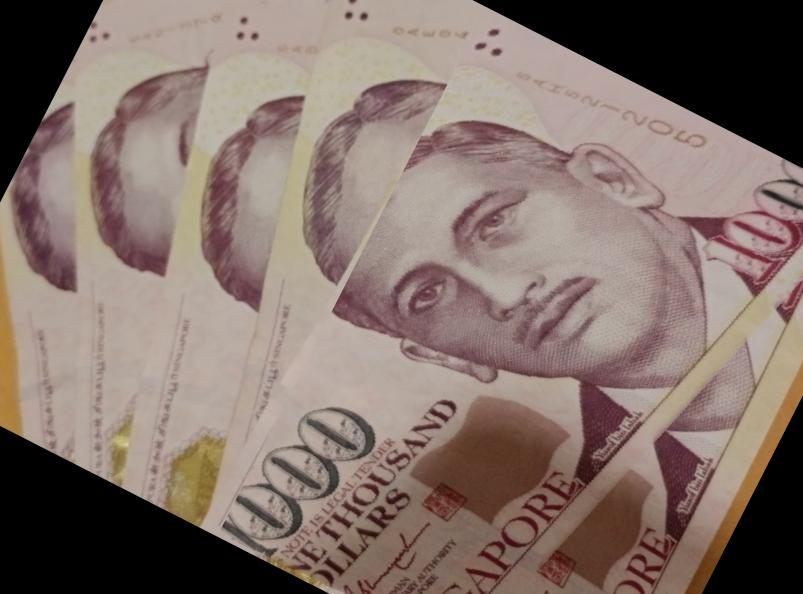1000SingaporeDollar: (216, 7, 803, 594)
